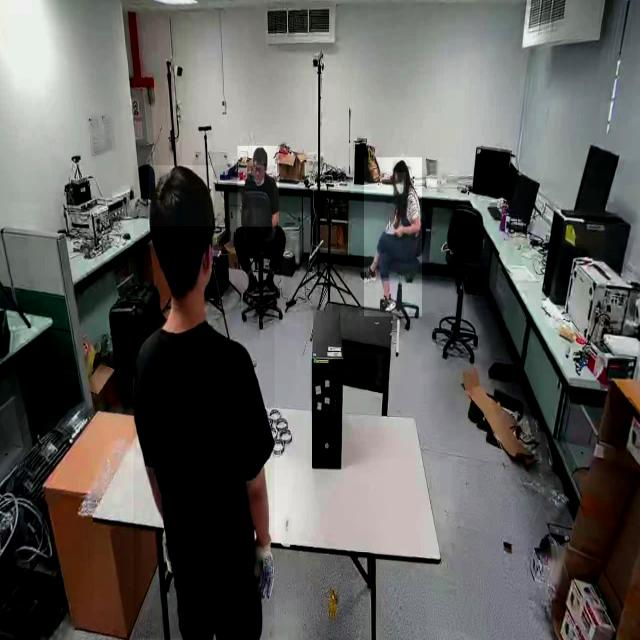face_mask: (394, 172, 406, 195)
face_nomask: (252, 165, 265, 182)
glasses: (251, 164, 265, 178)
hand_noglove: (393, 223, 405, 237)
head_nohelmet: (148, 165, 214, 228), (252, 146, 267, 164), (392, 159, 410, 173)
person: (133, 165, 275, 639), (364, 158, 422, 318), (238, 146, 280, 227)
shoes: (263, 270, 282, 298), (243, 269, 261, 296), (360, 262, 380, 286), (378, 294, 397, 313)
